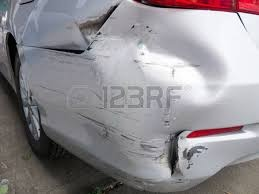Dent: (135, 27, 229, 100), (35, 4, 121, 68)
Scratch: (76, 111, 170, 162), (180, 144, 211, 170)
